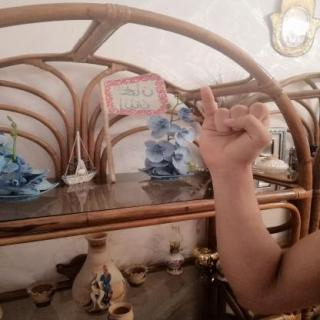MEEM: (183, 76, 286, 176)
